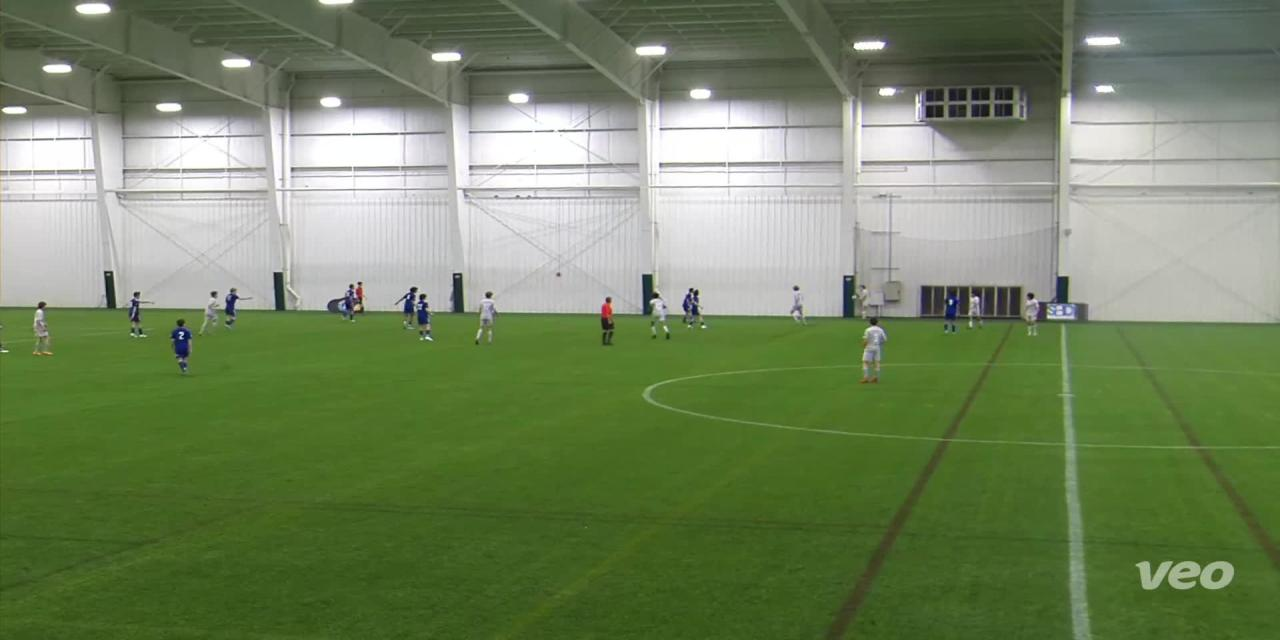sports ball: (847, 290, 861, 304)
